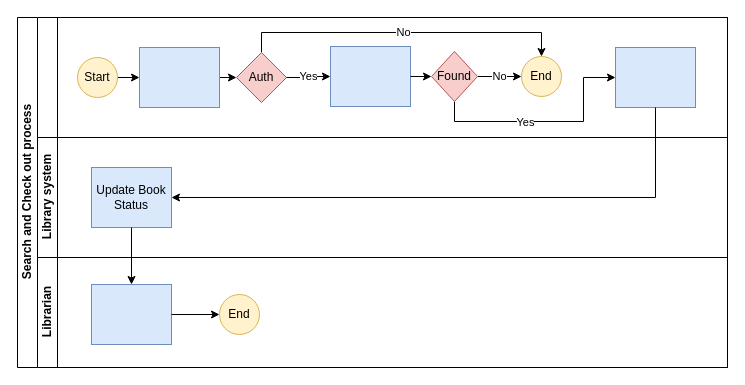
Image size: 745x385. Some labels were removed from this diagram. The box of each missing label's shape, as (x1, y1, x2, y2) in pixels:
Checkout: (90, 284, 172, 344)
Login: (138, 46, 220, 108)
Member: (36, 16, 728, 138)
Reserve Book: (614, 46, 696, 108)
Search Book: (330, 46, 410, 106)
